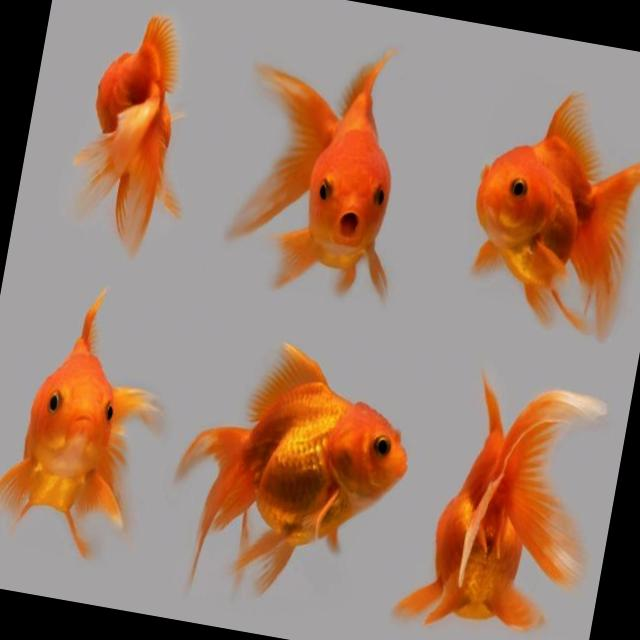GoldFish: (150, 324, 429, 632), (388, 358, 615, 640), (219, 29, 430, 310), (0, 276, 176, 569), (452, 75, 640, 344), (52, 0, 213, 264)
